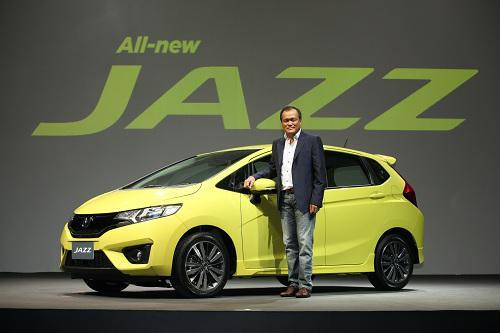Hatchback: (57, 127, 430, 295)
